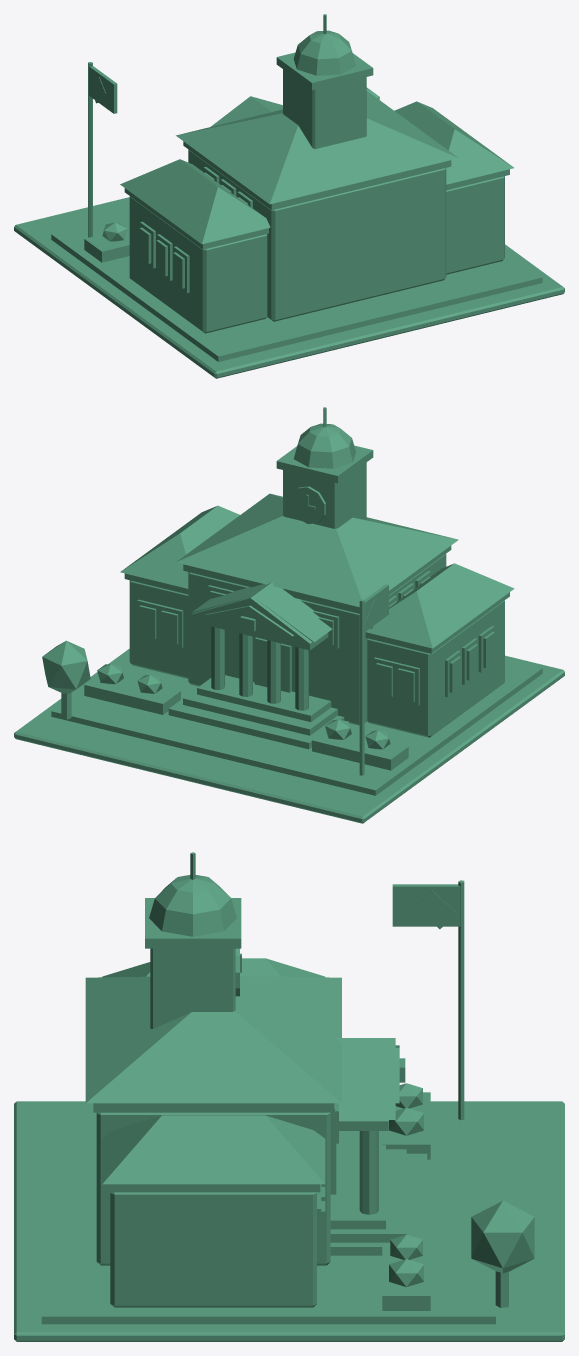
3 views of the same model, one above another, from view 1: azimuth 30°, elevation 25°; view 2: azimuth 150°, elevation 25°; view 3: azimuth 270°, elevation 25° (orthographic). The views are drawn at different scales.
Visible parts, largest first — view 1: corpo; view 2: corpo; view 3: corpo.
Boxes of the visible parts, left/top/right/bottom form: corpo: left=14, top=14, right=564, bottom=378; corpo: left=14, top=407, right=564, bottom=823; corpo: left=14, top=852, right=564, bottom=1341.
Bounding box in the file's own units: 4 × 2.99 × 4.
